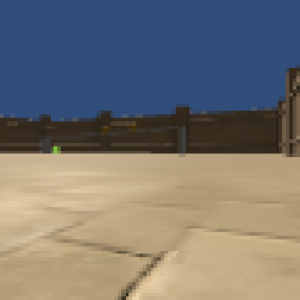goodGoal: (53, 144, 61, 154)
goodGoalMulti: (125, 121, 141, 134), (100, 125, 115, 134)
wall: (178, 127, 187, 155), (40, 136, 52, 154)
